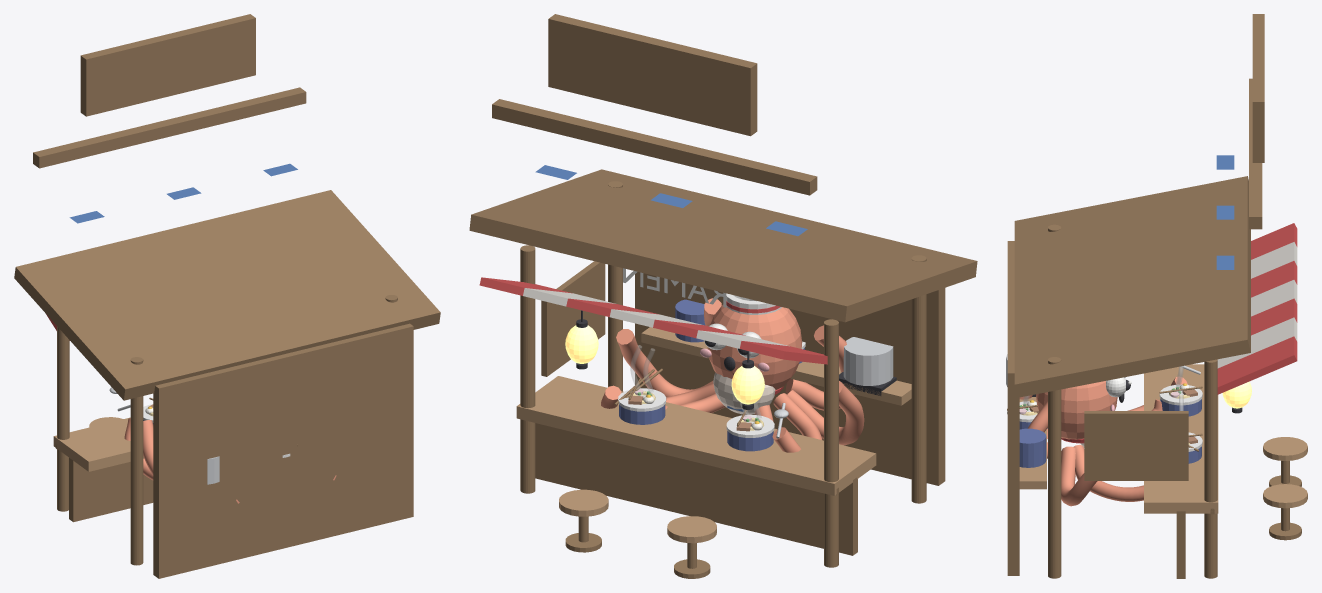
Rendered from octopus-ramen-shop.glb.
The picture shows the model from 3 angles, left to right: view 1: azimuth 30°, elevation 25°; view 2: azimuth 150°, elevation 25°; view 3: azimuth 270°, elevation 25°; orthographic projection. The views are drawn at different scales.
Parts seen in each view (by area): view 1: BackWall, Roof, SignBoard, Beam, CounterFront, CounterTop, Post_-2.1_-1.5, Post_-2.1_0.6; view 2: Roof, CounterFront, BackWall, SignBoard, CounterTop, Beam, OctoHead, MenuBoard, Post_2.1_0.6, Post_-2.1_0.6, Post_-2.1_-1.5, BackShelf (+23 smaller); view 3: Roof, MenuBoard, CounterTop, BackWall, Post_2.1_0.6, Post_2.1_-1.5, OctoHead, Awning_6, SignBoard, Beam, Arm_R, Awning_5 (+14 smaller).
Part boxes in pixels (x1,y1,x2,y2): BackWall: [153, 323, 413, 578]; Roof: [14, 190, 440, 400]; SignBoard: [80, 14, 255, 116]; Beam: [33, 87, 306, 168]; CounterFront: [69, 458, 153, 522]; CounterTop: [53, 417, 143, 471]; Post_-2.1_-1.5: [130, 357, 143, 565]; Post_-2.1_0.6: [57, 326, 69, 511]; Roof: [469, 169, 977, 322]; CounterFront: [535, 423, 857, 555]; BackWall: [635, 272, 945, 485]; SignBoard: [548, 14, 757, 136]; CounterTop: [516, 376, 876, 495]; Beam: [492, 99, 817, 195]; OctoHead: [707, 304, 802, 389]; MenuBoard: [541, 261, 605, 376]; Post_2.1_0.6: [520, 245, 535, 493]; Post_-2.1_0.6: [824, 319, 838, 567]; Post_-2.1_-1.5: [911, 255, 926, 503]; BackShelf: [641, 327, 911, 405]; Roof: [1014, 176, 1250, 397]; MenuBoard: [1084, 411, 1188, 480]; CounterTop: [1144, 364, 1218, 513]; BackWall: [1007, 241, 1019, 575]; Post_2.1_0.6: [1204, 359, 1217, 578]; Post_2.1_-1.5: [1048, 357, 1061, 578]; OctoHead: [1036, 381, 1117, 439]; Awning_6: [1217, 336, 1297, 394]; SignBoard: [1252, 14, 1264, 162]; Beam: [1249, 78, 1262, 229]; Arm_R: [1061, 446, 1097, 506]; Awning_5: [1217, 317, 1297, 368].
Size of what is drawn, in the model's own units: 5.2 by 6.69 by 4.05.
